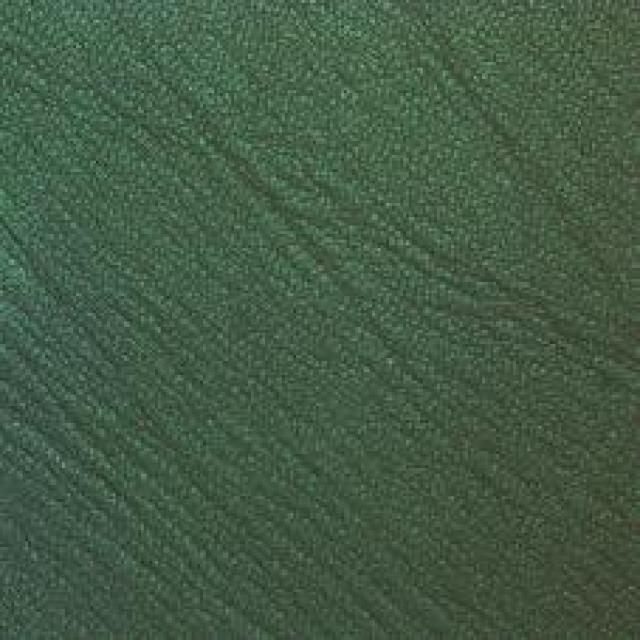Growth Marks: (421, 222, 603, 370), (195, 92, 331, 250)
